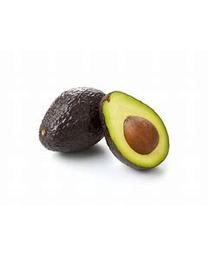avocado: (99, 91, 171, 171), (37, 84, 115, 154)
